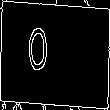O_S: (45, 28, 65, 82)
